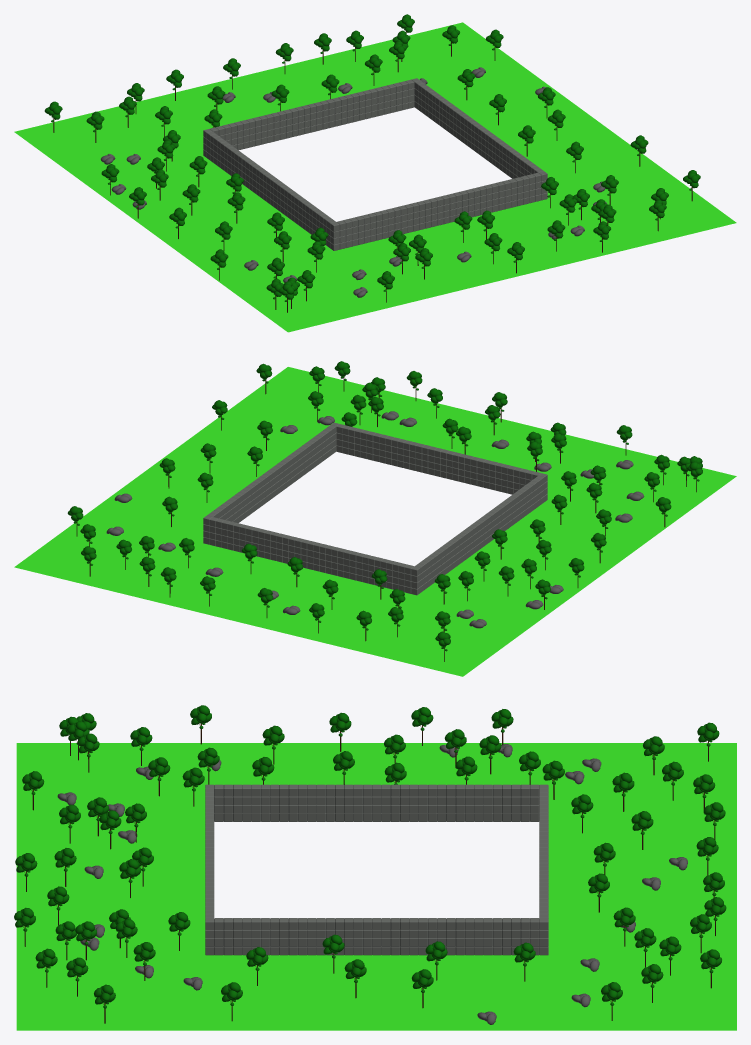
The model's file is new wall.fbx.
3 renders of one model, top to bottom at view 1: azimuth 30°, elevation 25°; view 2: azimuth 150°, elevation 25°; view 3: azimuth 270°, elevation 25°, orthographic. The views are drawn at different scales.
Parts seen in each view (by area): view 1: Cube.002; view 2: Cube.002; view 3: Cube.002.
Part boxes in pixels (<box>): Cube.002: <box>14,14,736,332</box>; Cube.002: <box>14,361,736,676</box>; Cube.002: <box>14,705,736,1030</box>.
Size of the model in its own units: 7428 by 465 by 7792.
